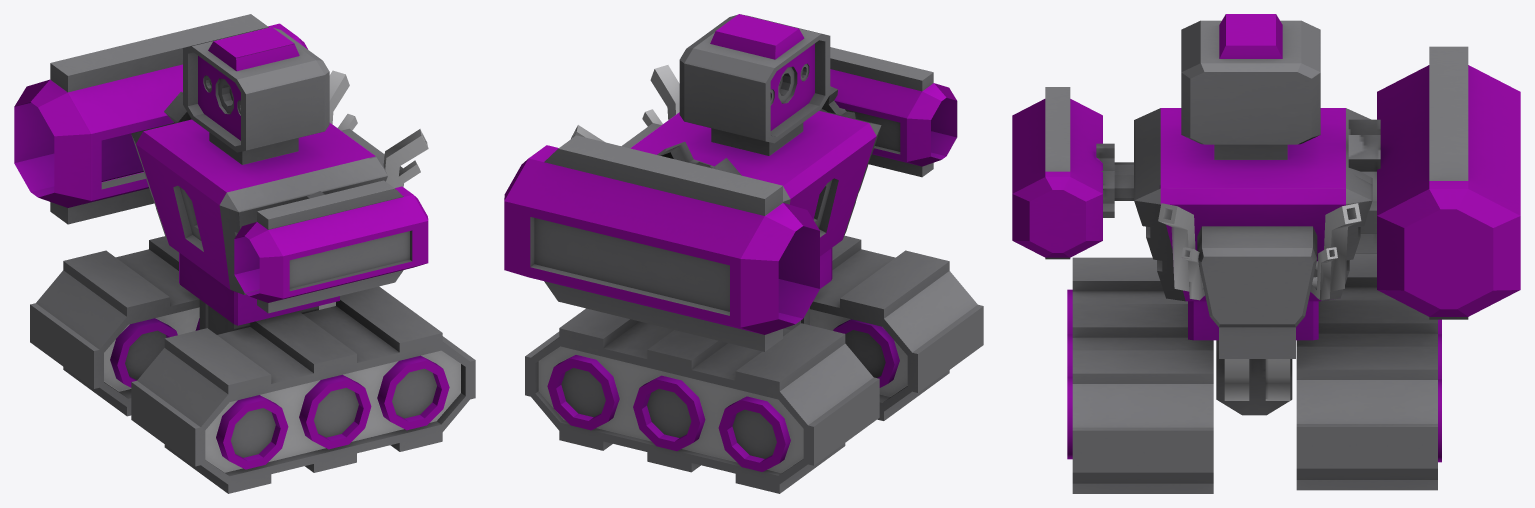
Rendered from Enemy2_Attack16.obj.
The picture shows the model from 3 angles, left to right: view 1: azimuth 30°, elevation 25°; view 2: azimuth 150°, elevation 25°; view 3: azimuth 270°, elevation 25°; orthographic projection. The views are drawn at different scales.
Visible parts, largest first — view 1: Object006, Object007, Object011, Object010; view 2: Object006, Object011, Object007, Object010, Object009; view 3: Object006, Object007, Object011, Object010, Object009, Object008.
Boxes of the visible parts, x1,y1,x2,y2 form: Object006: [30, 180, 475, 493]; Object007: [131, 27, 387, 334]; Object011: [14, 14, 307, 224]; Object010: [319, 70, 428, 309]; Object006: [525, 47, 983, 493]; Object011: [504, 135, 819, 351]; Object007: [630, 14, 881, 330]; Object010: [571, 65, 679, 148]; Object009: [657, 141, 741, 175]; Object006: [1012, 87, 1441, 493]; Object007: [1134, 14, 1372, 415]; Object011: [1377, 46, 1520, 319]; Object010: [1158, 203, 1361, 400]; Object009: [1348, 119, 1380, 253]; Object008: [1096, 143, 1133, 217].
Bounding box in the file's own units: 87.04 × 109 × 123.
